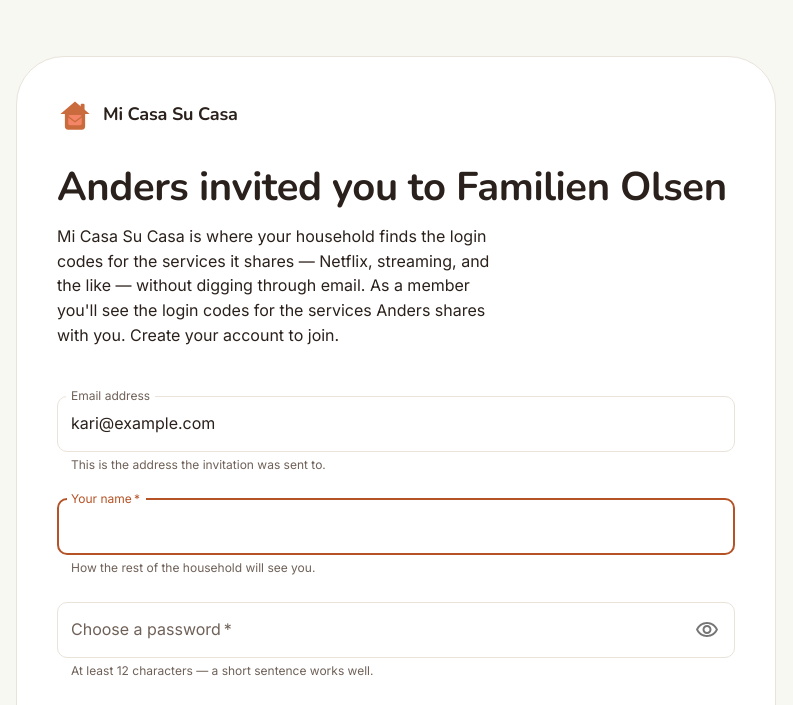
InvitePage › sends someone who already has an account to sign in, on the code
Type "Kari Olsen" into the field labelled "Your name *" at (396, 527), box [57, 499, 735, 555]
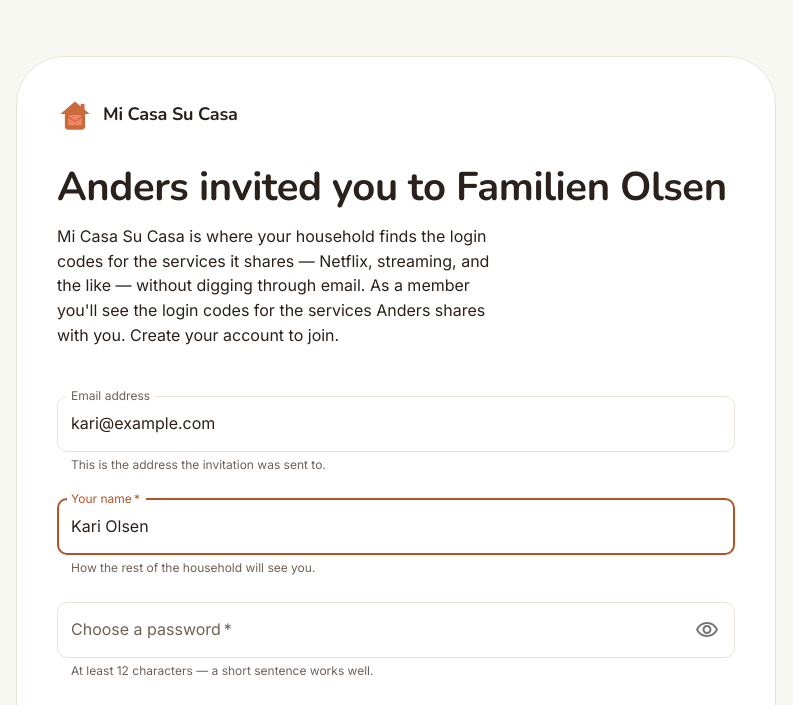
Type "correct-horse-battery" into the password field labelled "Choose a password *" at (370, 630), box [57, 602, 682, 658]
(page scrolled)
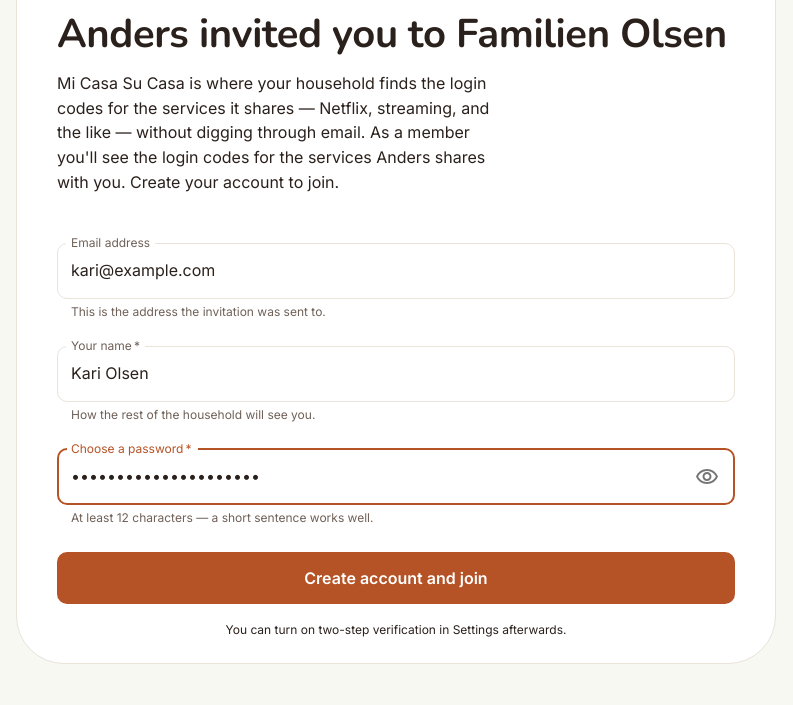
Click the button "Create account and join" at (396, 578), box [57, 552, 735, 604]
(page scrolled)
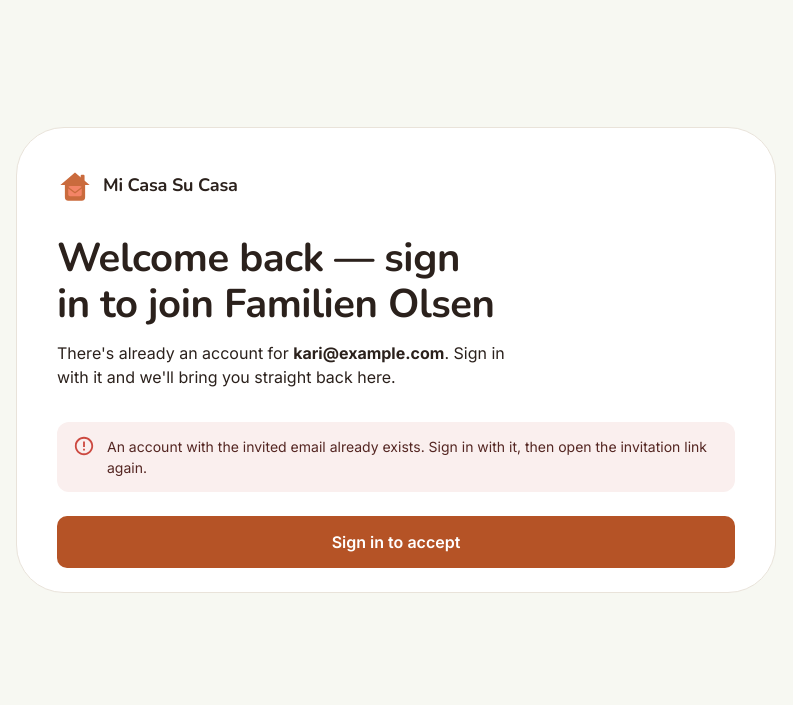
expect the heading "Welcome back — sign in to join Familien Olsen" is shown: met, box [57, 231, 495, 331]
expect the button "Sign in to accept" is shown: met, box [57, 516, 735, 568]
